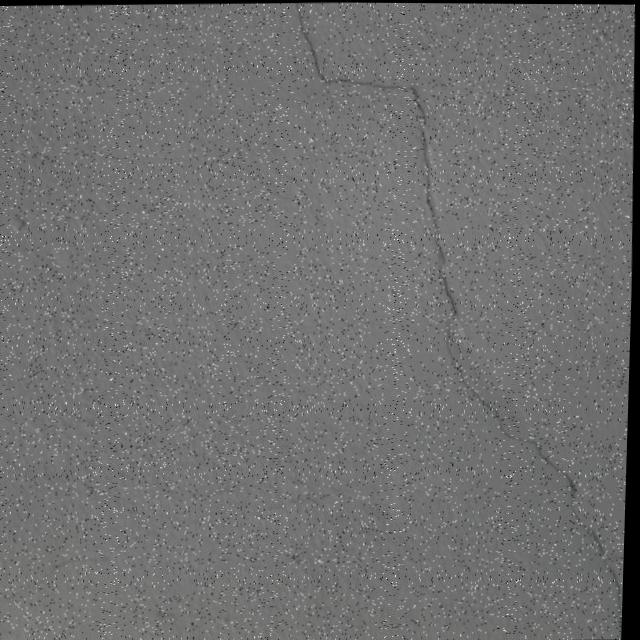Crack: (274, 2, 640, 640)
